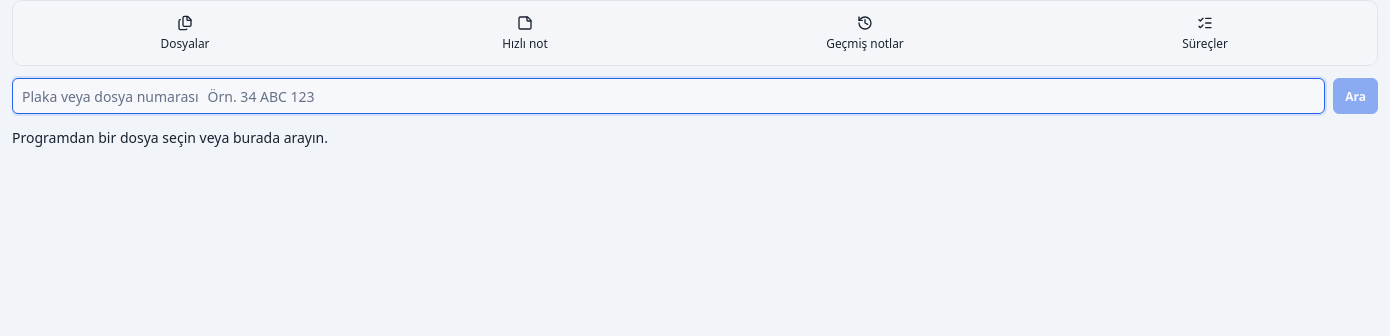
Test: standalone Touch case workspace › makes denied writing unavailable while keeping read access to notes
Click the tab "Dosyalar" at [185, 33], box [17,5,353,62]
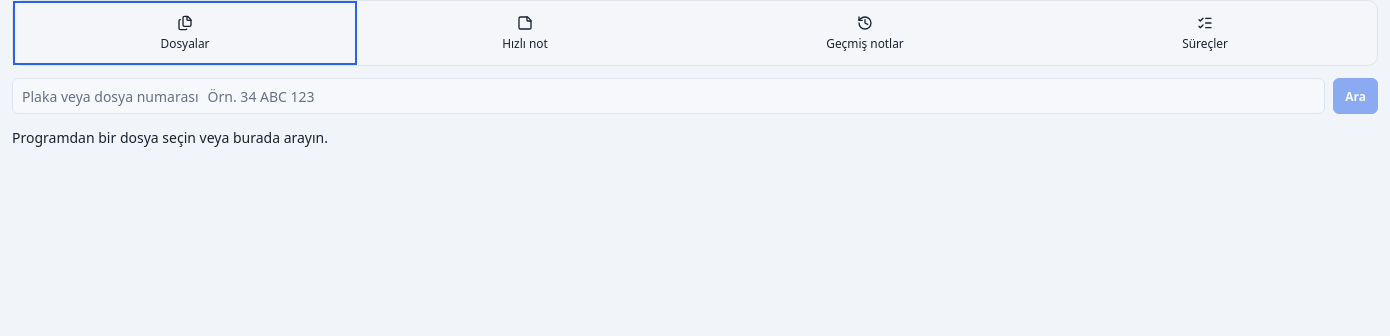
Type "34 TEST" into the field labelled "Plaka veya dosya numarası" at [760, 96], box [206,86,1315,107]
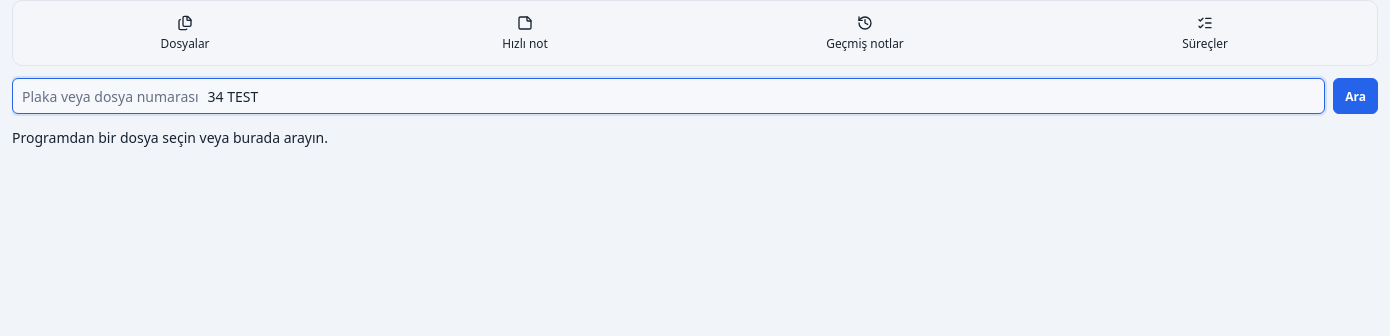
Click the button "Ara" at [1356, 96], box [1333,78,1378,114]
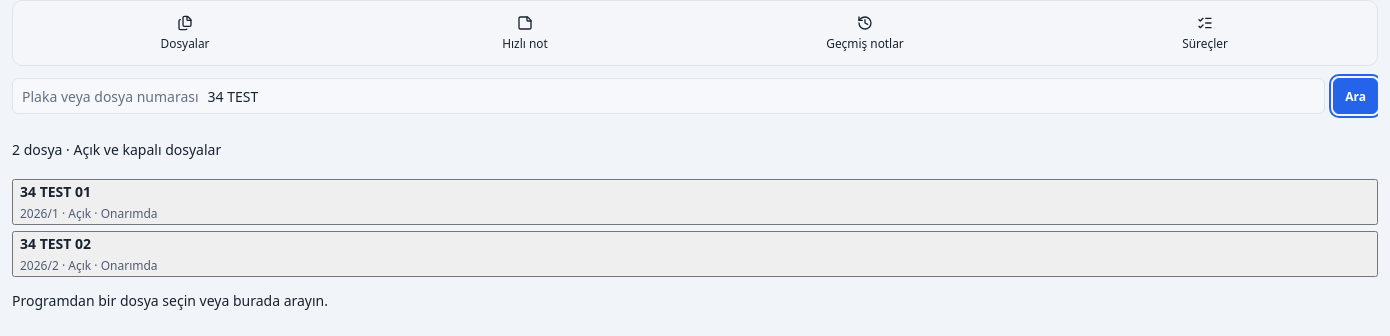
Click the button "34 TEST 01 2026/1 · Açık · Onarımda" at [56, 192], box [12,180,1378,226]
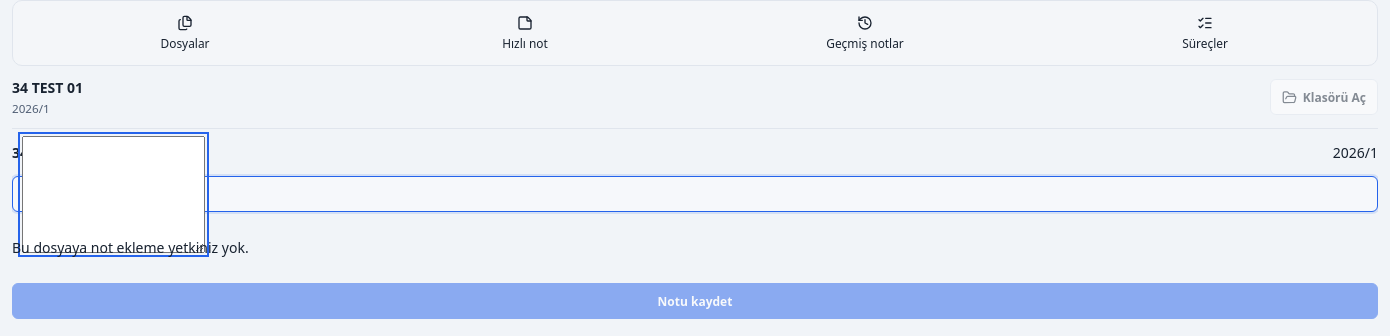
Expected: the text box named "Hızlı not" is shown
Expected: the text "Bu dosyaya not ekleme yetkiniz yok." is shown, [12,238,249,258]
Type "Yetkisiz" into the text box named "Hızlı not" at [114, 194], box [22,136,205,254]
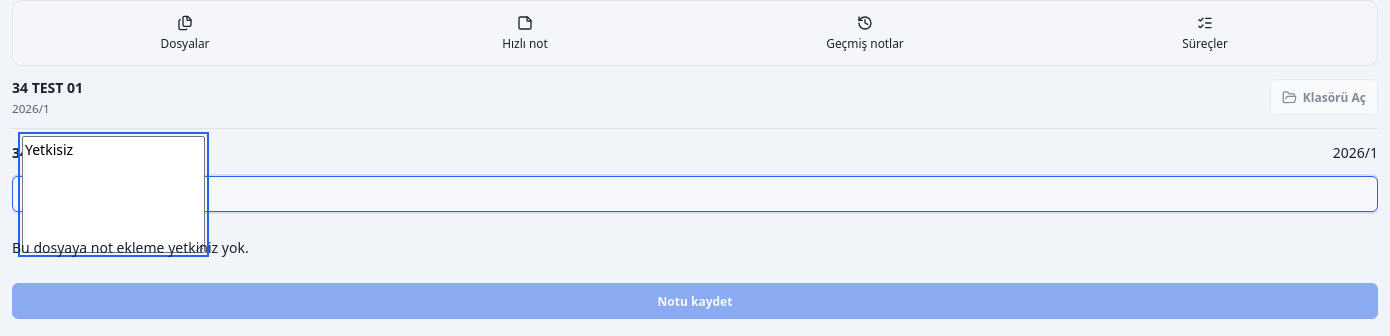
Expected: the button "Notu kaydet" is disabled, [12,284,1378,320]
Click the tab "Geçmiş notlar" at [865, 33], box [697,5,1033,62]
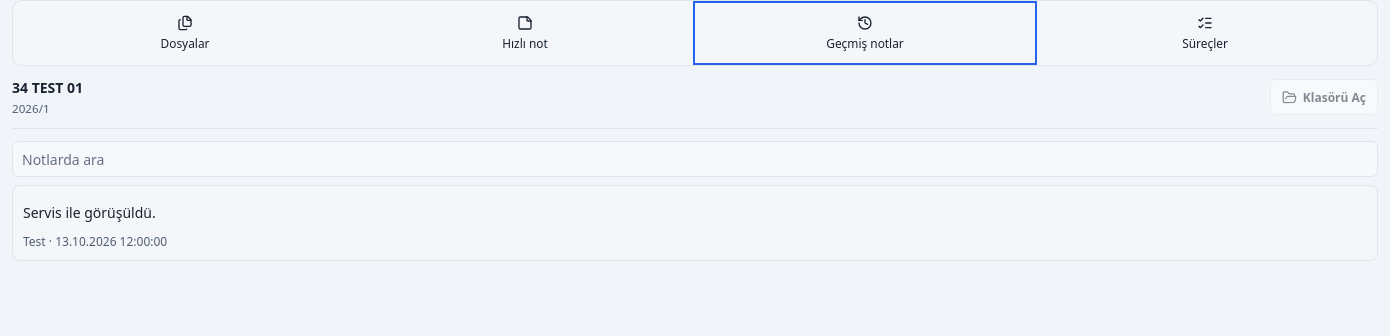
Expected: the text "Servis ile görüşüldü." is shown, [23,204,156,222]
